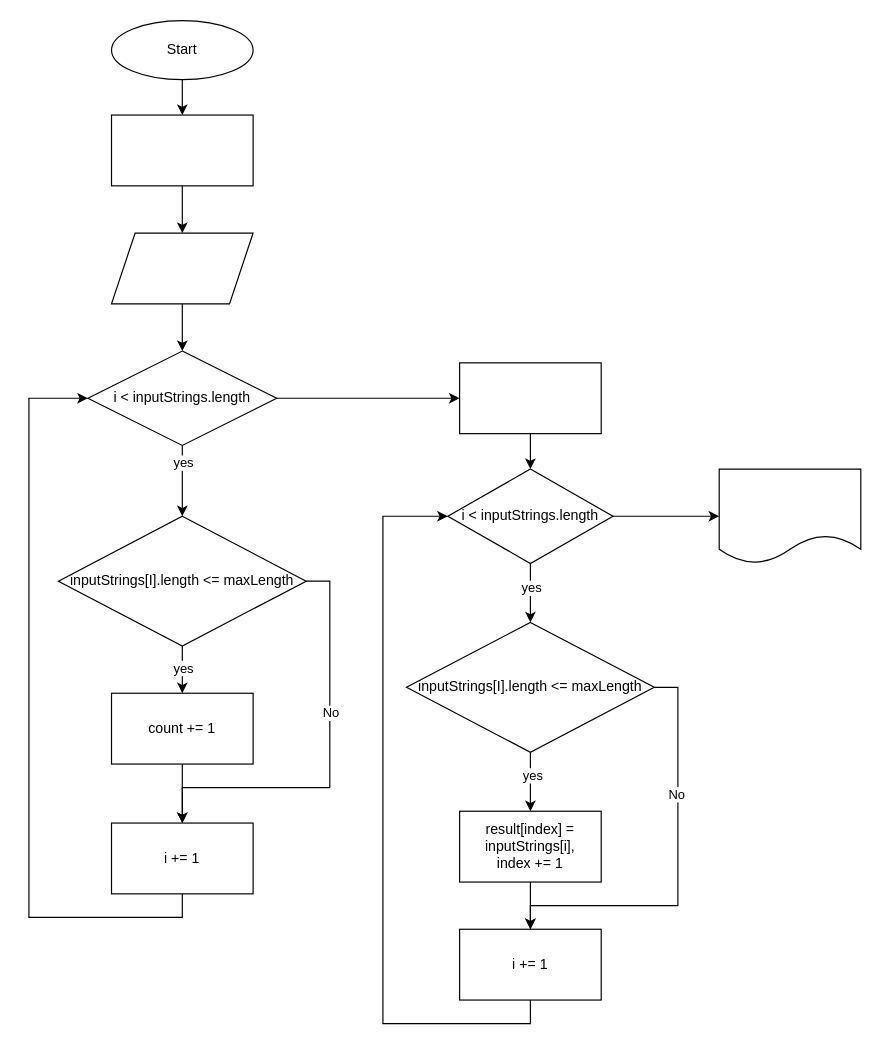
The diagram is 881 pixels wide and 1054 high, and some of its shapes have lost their labels. The box of each missing label's shape, as (x1, y1, x2, y2) in pixels:
inputStrings: (110, 232, 253, 304)
maxLength = 3, count = 0, index = 0: (110, 114, 253, 186)
resultStrings: (718, 468, 861, 563)
resultStrings = new String[count]: (458, 362, 601, 434)
